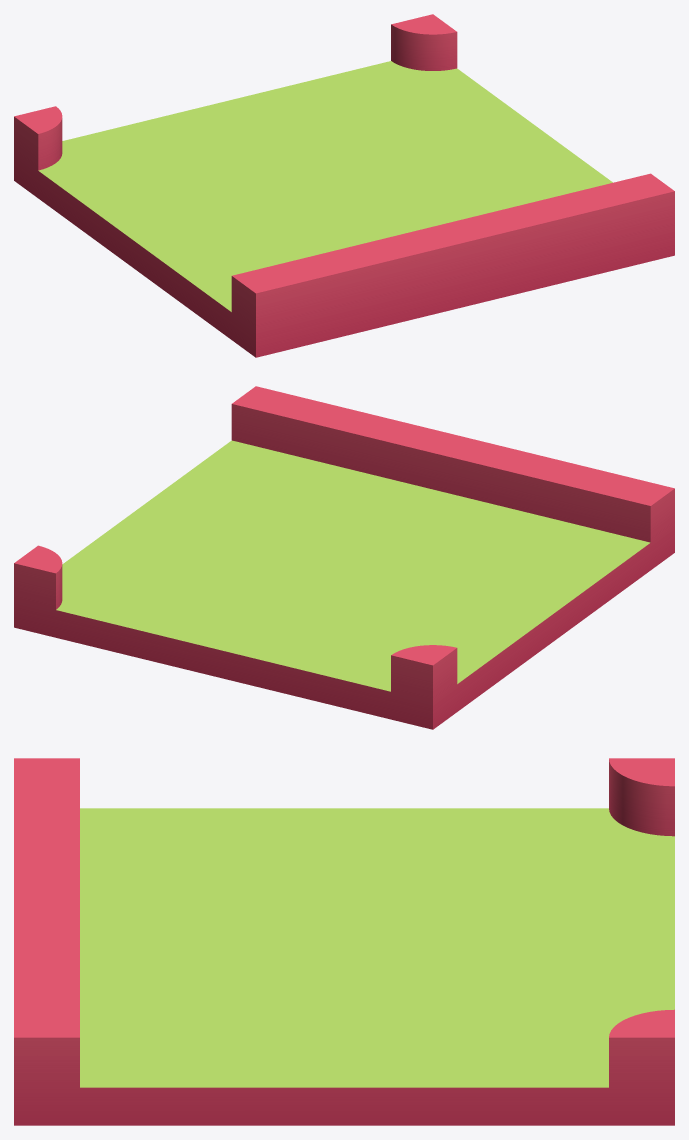
Rendered from split-t.fbx.
The picture shows the model from 3 angles, top to bottom: view 1: azimuth 30°, elevation 25°; view 2: azimuth 150°, elevation 25°; view 3: azimuth 270°, elevation 25°; orthographic projection. The views are drawn at different scales.
Parts seen in each view (by area): view 1: split_t; view 2: split_t; view 3: split_t.
Boxes of the visible parts, box(x1,y1,x2,y2) form: split_t: box(14, 14, 674, 357); split_t: box(14, 386, 674, 729); split_t: box(14, 758, 674, 1125).
Size of the model in its own units: 99.99 by 14.67 by 99.99.
